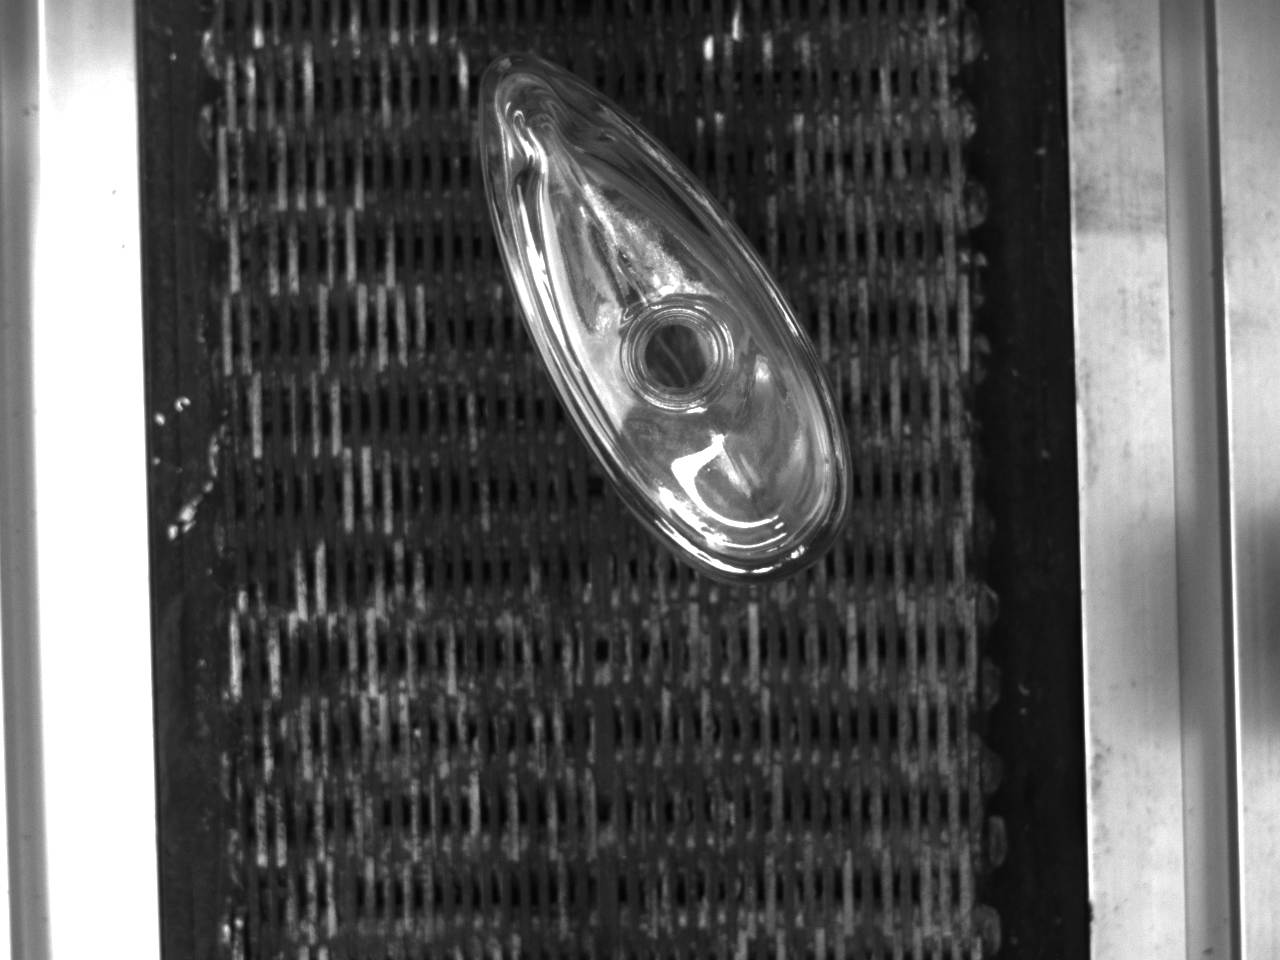bottleneck: (622, 304, 735, 411)
